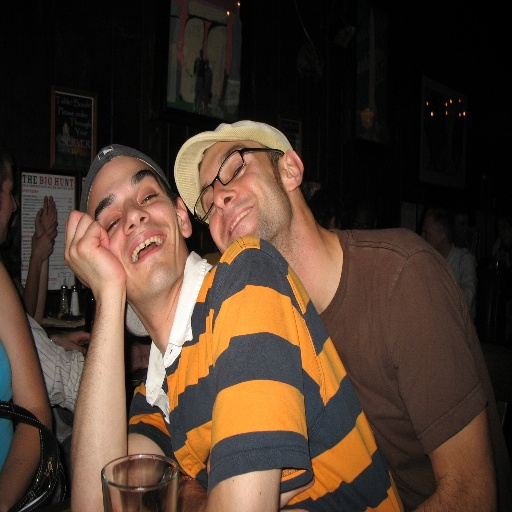hand: (56, 197, 116, 319), (31, 220, 60, 265), (278, 477, 315, 511), (34, 195, 57, 241), (56, 328, 92, 356)
